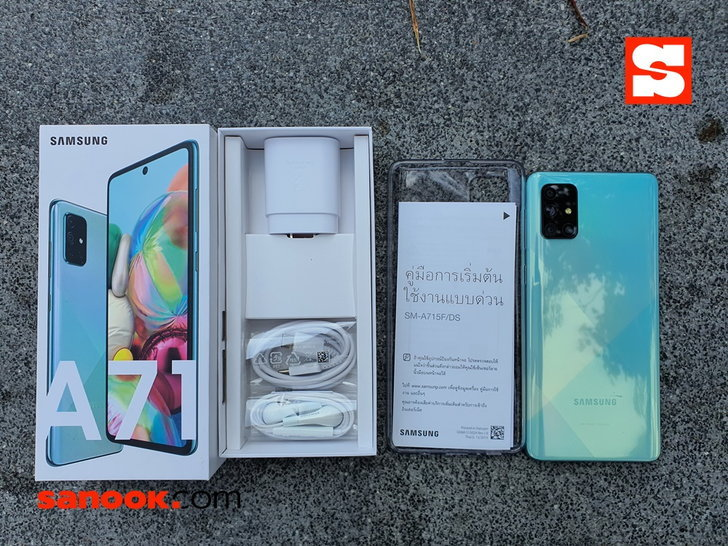phone: (519, 168, 664, 468)
